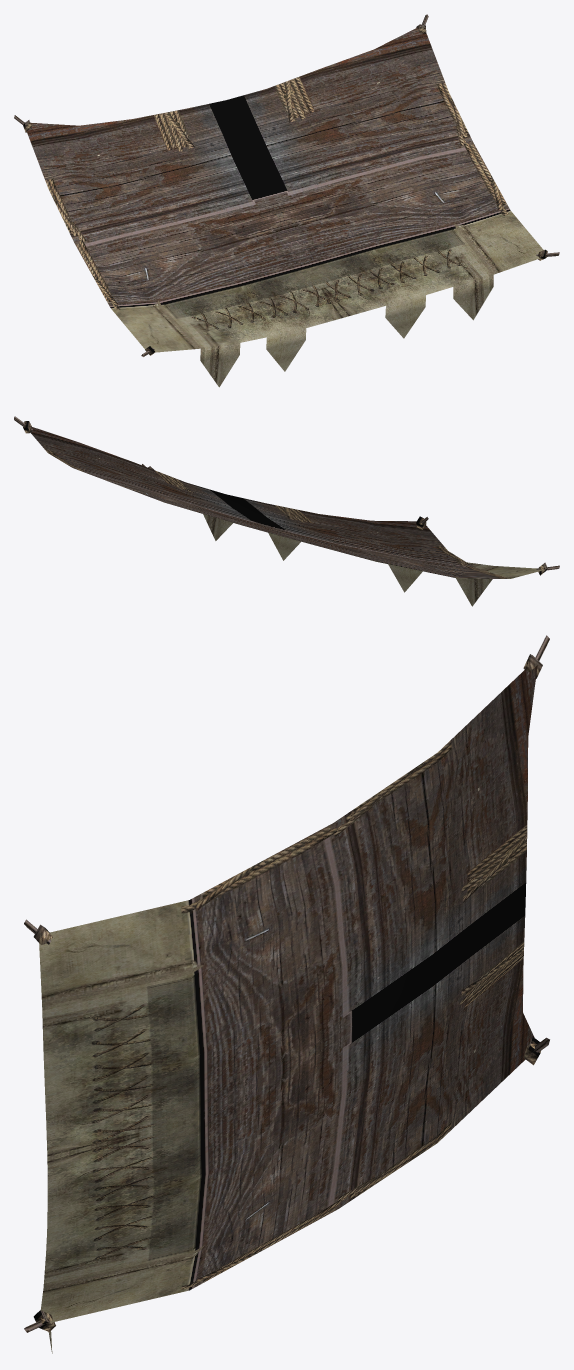
File: BarTent.fbx
The picture shows the model from 3 angles, top to bottom: view 1: azimuth 30°, elevation 25°; view 2: azimuth 150°, elevation 25°; view 3: azimuth 270°, elevation 25°; orthographic projection. The views are drawn at different scales.
Visible parts, largest first — view 1: LV_Compagna_Object_BarTent04_SM_NWCDOR; view 2: LV_Compagna_Object_BarTent04_SM_NWCDOR; view 3: LV_Compagna_Object_BarTent04_SM_NWCDOR.
Part boxes in pixels (x1,y1,x2,y2): LV_Compagna_Object_BarTent04_SM_NWCDOR: (14, 14, 559, 387); LV_Compagna_Object_BarTent04_SM_NWCDOR: (14, 416, 559, 606); LV_Compagna_Object_BarTent04_SM_NWCDOR: (24, 635, 549, 1353).
Size of the model in its own units: 1.25 by 0.58 by 0.6836.
Materials: 1 (1 with a texture image).
